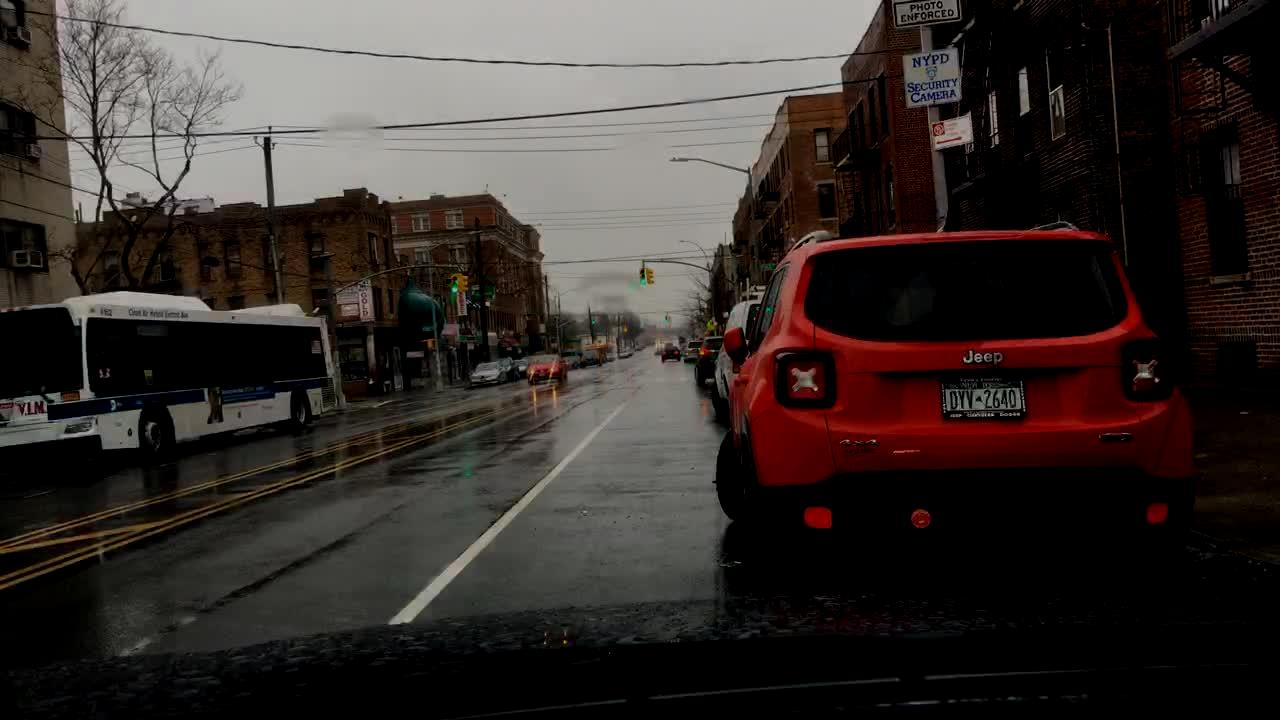jeep: (955, 344, 1014, 371)
